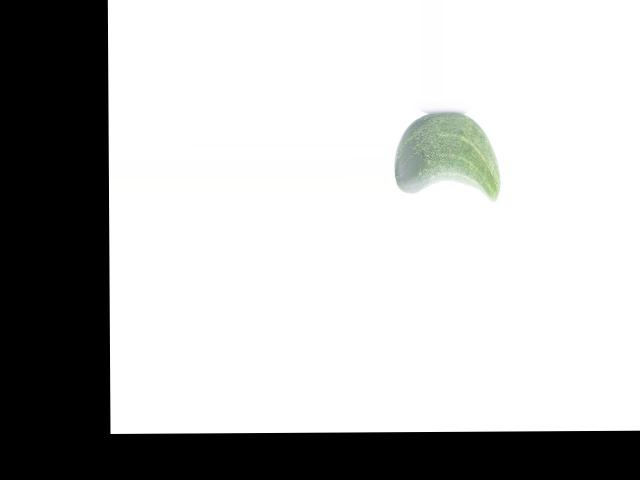cucumber: (394, 112, 501, 201)
